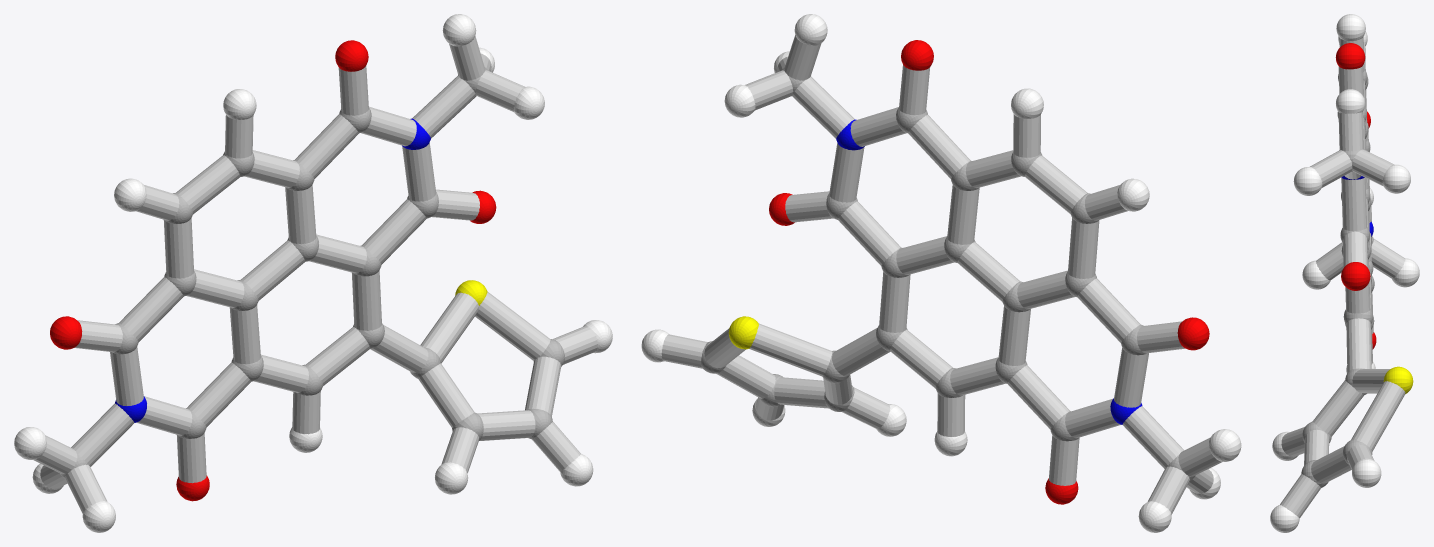
Rendered from Dimethyl_Naphthalene_Dicarboximide_Phi_20_Theta_140_Thiophene.glb.
3 views of the same model, side by side, from view 1: azimuth 30°, elevation 25°; view 2: azimuth 150°, elevation 25°; view 3: azimuth 270°, elevation 25° (orthographic). The views are drawn at different scales.
Visible parts, largest first — view 1: grp14119, grp7241, grp1, grp12309, grp11585; view 2: grp14119, grp7241, grp1, grp12309, grp13757, grp11585; view 3: grp14119, grp7241, grp1, grp12309, grp13757.
Boxes of the visible parts, <box> form: grp14119: <box>33,36,597,513</box>; grp7241: <box>14,14,612,532</box>; grp1: <box>60,67,565,478</box>; grp12309: <box>50,40,496,501</box>; grp11585: <box>115,118,430,422</box>; grp14119: <box>661,35,1222,514</box>; grp7241: <box>641,14,1241,532</box>; grp1: <box>701,68,1195,481</box>; grp12309: <box>769,40,1209,504</box>; grp13757: <box>728,316,758,349</box>; grp11585: <box>836,119,1142,424</box>; grp14119: <box>1280,37,1405,518</box>; grp7241: <box>1270,14,1419,532</box>; grp1: <box>1301,69,1374,487</box>; grp12309: <box>1335,43,1376,349</box>; grp13757: <box>1383,366,1413,393</box>.
Bounding box in the file's own units: 12.39 × 9.13 × 3.04.
